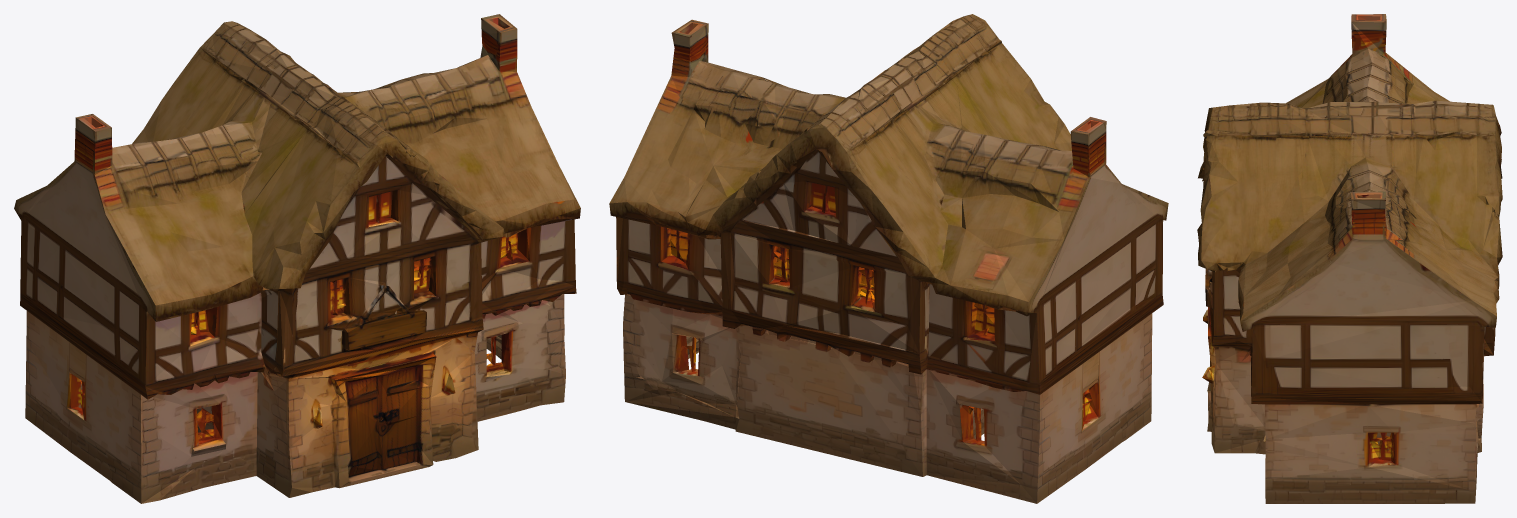
Rendered from inn.glb.
3 renders of one model, left to right at view 1: azimuth 30°, elevation 25°; view 2: azimuth 150°, elevation 25°; view 3: azimuth 270°, elevation 25°, orthographic. The views are drawn at different scales.
Parts seen in each view (by area): view 1: textured_mesh.obj; view 2: textured_mesh.obj; view 3: textured_mesh.obj.
Part boxes in pixels (x1,y1,x2,y2): textured_mesh.obj: (14, 14, 580, 503); textured_mesh.obj: (609, 14, 1168, 503); textured_mesh.obj: (1197, 14, 1502, 503).
Bounding box in the file's own units: 1.97 × 1.51 × 1.35.
Materials: 1 (1 with a texture image).
